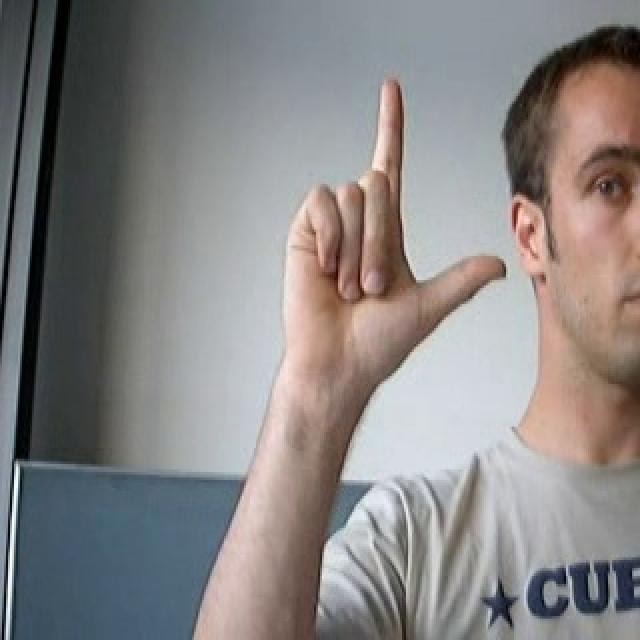L: (272, 58, 516, 392)
